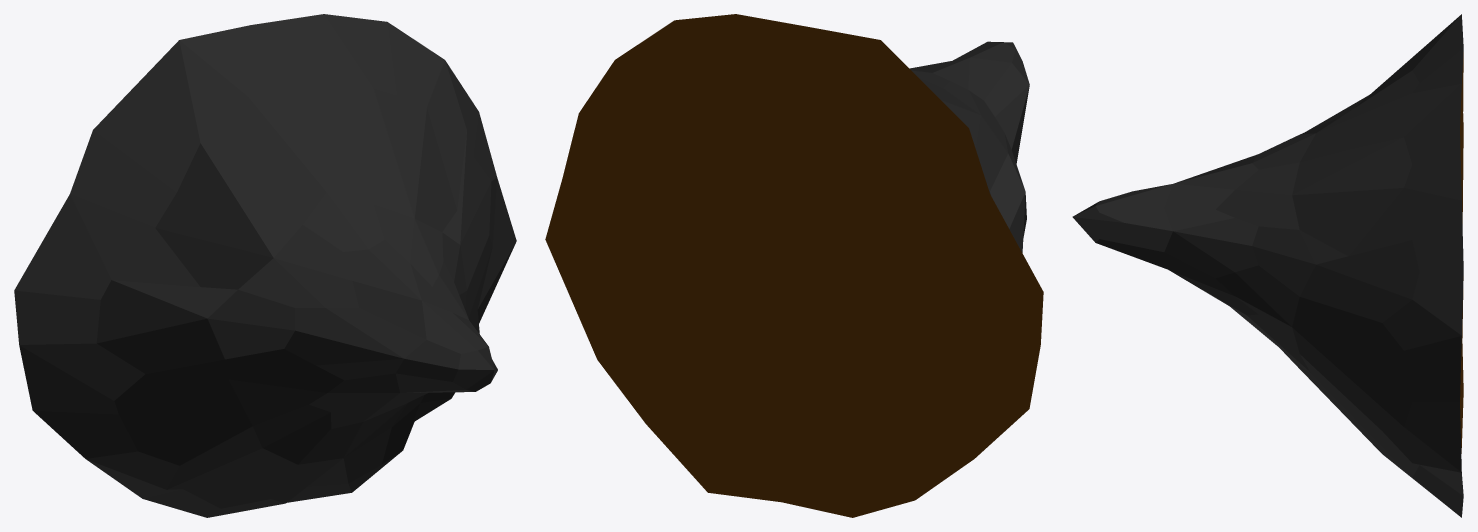
The model's file is FloatingIsland04.fbx.
The picture shows the model from 3 angles, left to right: view 1: azimuth 30°, elevation 25°; view 2: azimuth 150°, elevation 25°; view 3: azimuth 270°, elevation 25°; orthographic projection. The views are drawn at different scales.
Parts seen in each view (by area): view 1: FloatingIsland04; view 2: FloatingIsland04; view 3: FloatingIsland04.
Part boxes in pixels (box(x1,y1,x2,y2)): FloatingIsland04: box(14, 14, 516, 517); FloatingIsland04: box(545, 14, 1043, 517); FloatingIsland04: box(1072, 14, 1463, 517).
Size of the model in its own units: 366165 by 346054 by 285082.
